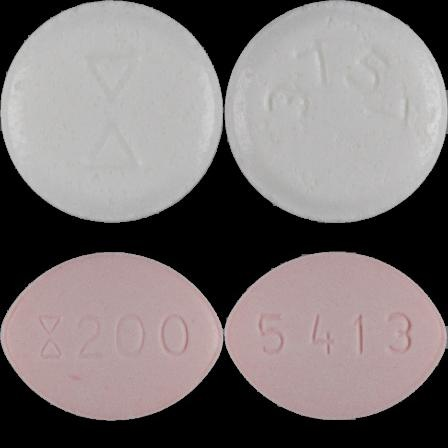55154-6191: (0, 0, 224, 224)
